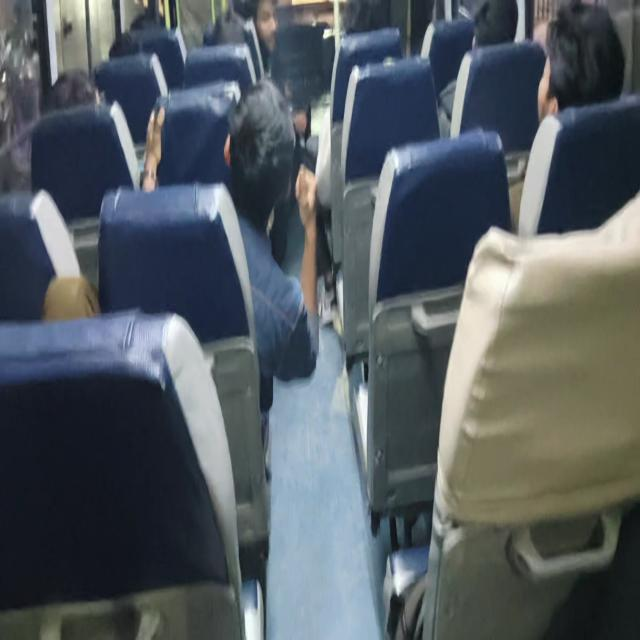person: (532, 37, 604, 146), (226, 110, 286, 216), (48, 76, 97, 128), (336, 0, 389, 47), (122, 6, 190, 39), (471, 1, 507, 54), (245, 2, 283, 52), (99, 33, 149, 65)
